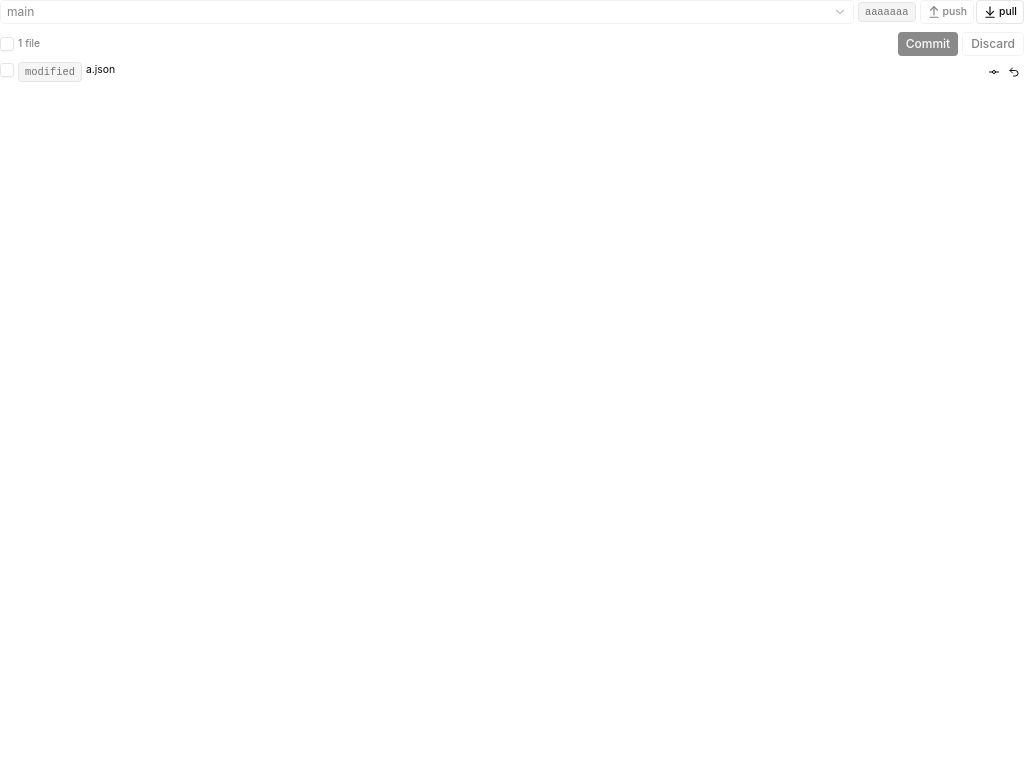
Test: discarding takes a dialog AND two presses, and never a single click › cancel closes it with nothing discarded, even after arming
Click the button named "Discard a.json" at (1014, 72), box [1004,62,1023,82]
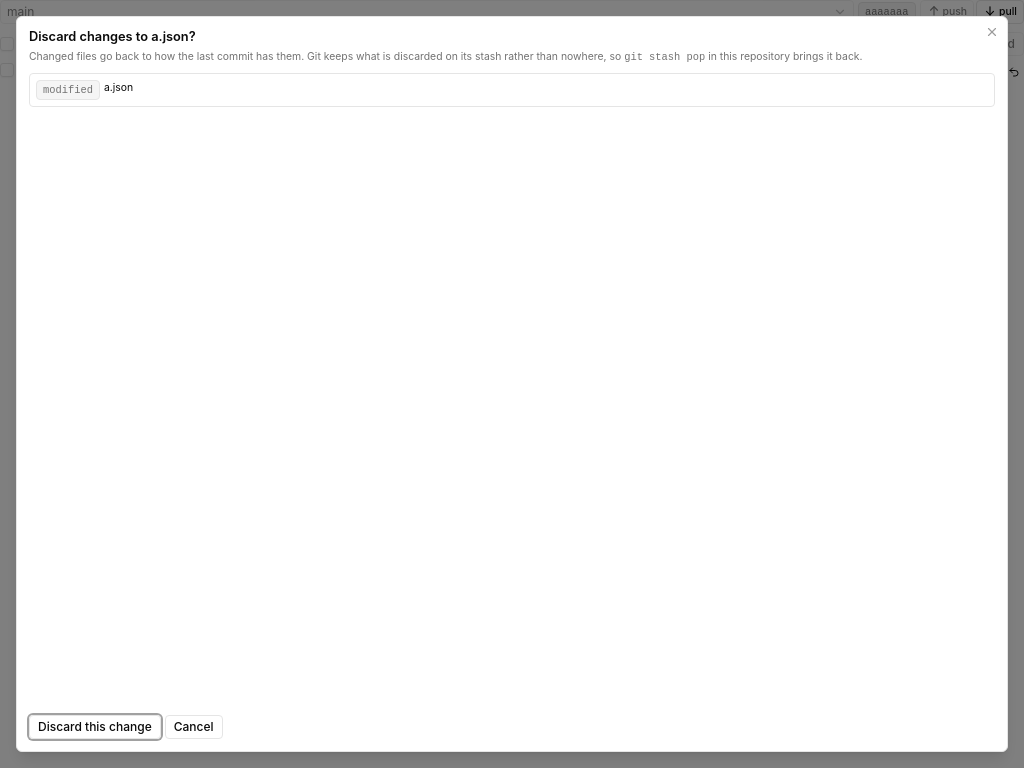
Click the button "Discard this change" at (95, 727), box [29,715,161,739]
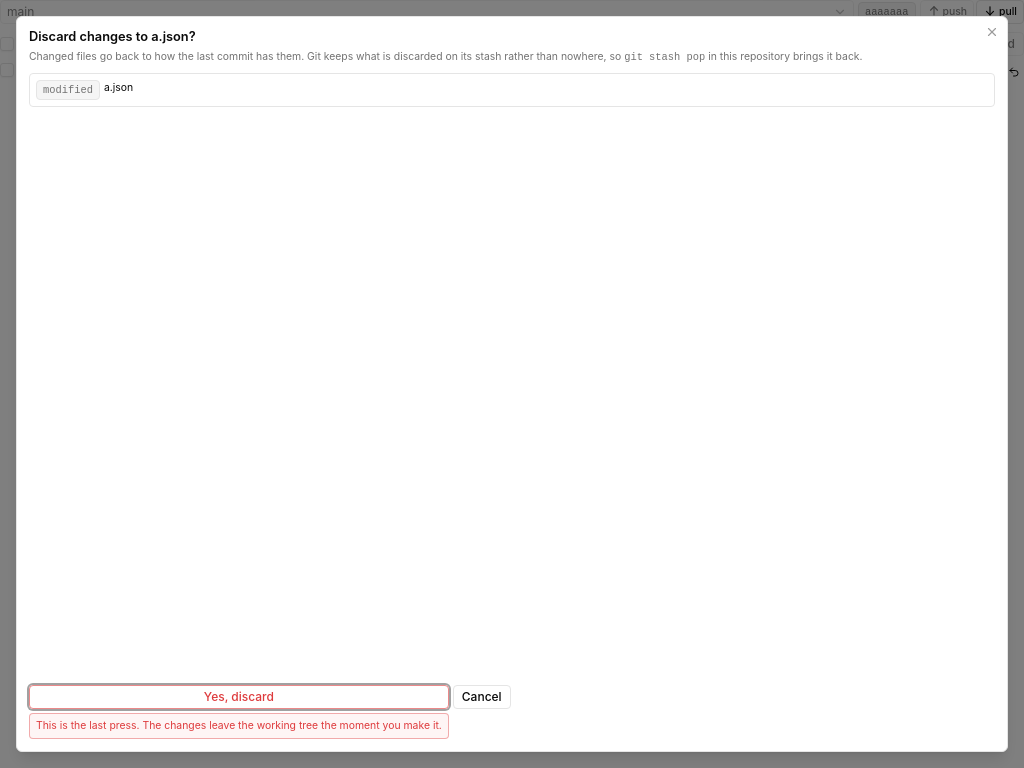
Click the button "Cancel" at (482, 697), box [453,685,511,709]
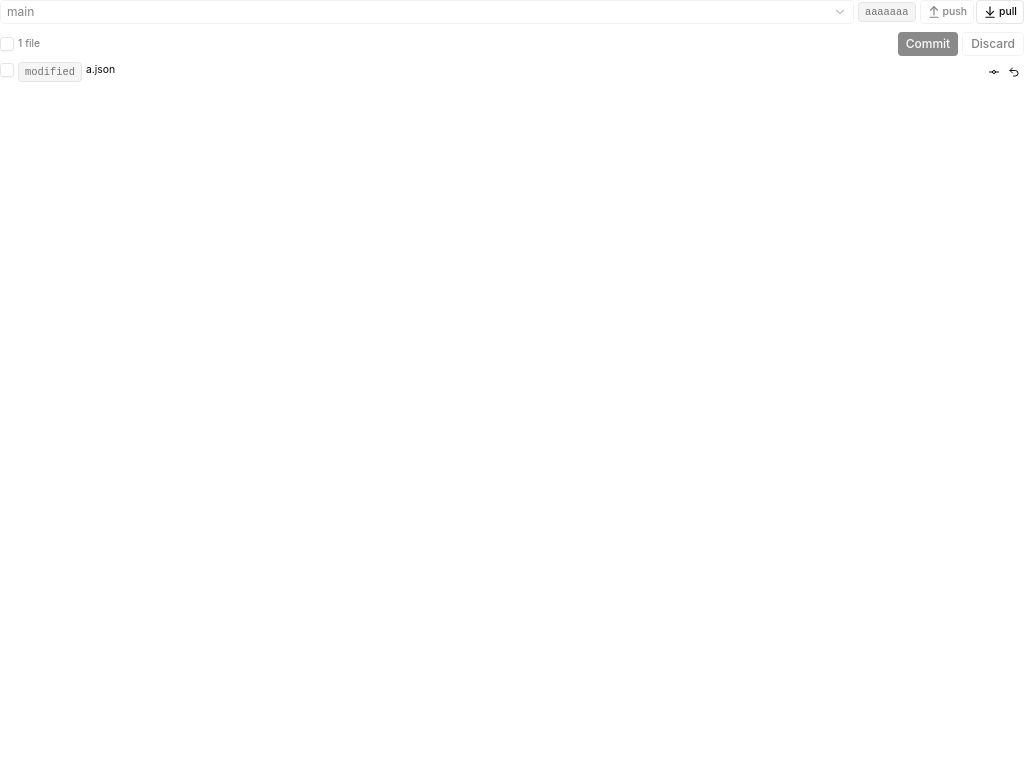
expect the dialog is gone: met
